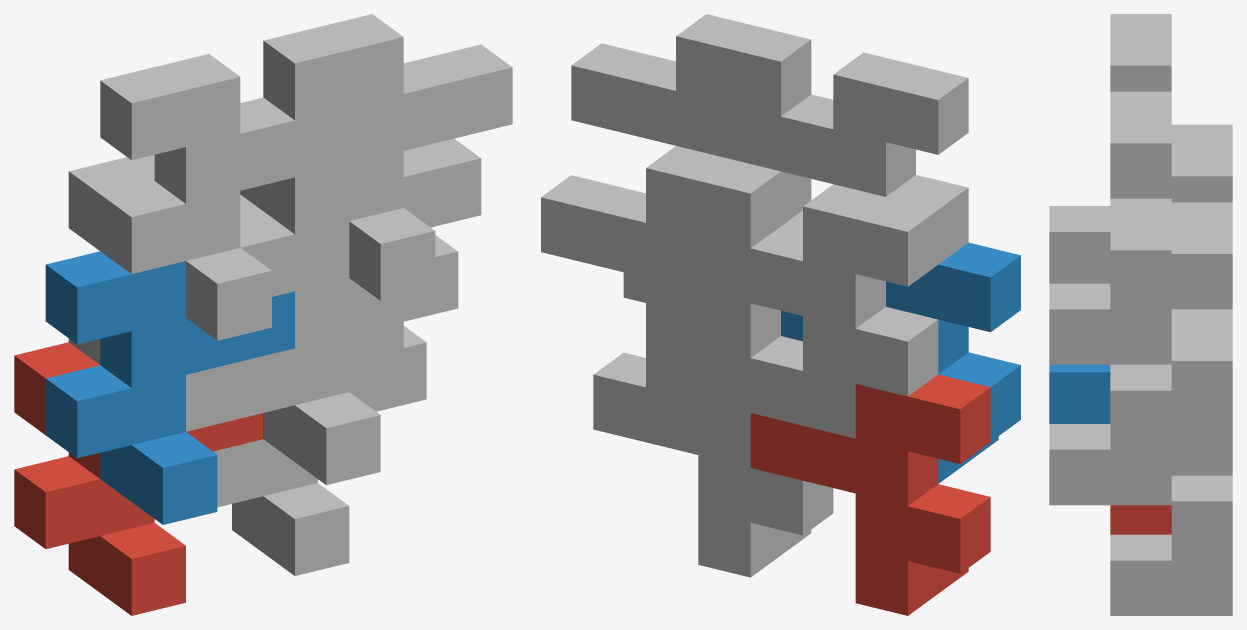
The model's file is tiling.obj.
3 views of the same model, side by side, from view 1: azimuth 30°, elevation 25°; view 2: azimuth 150°, elevation 25°; view 3: azimuth 270°, elevation 25° (orthographic). The views are drawn at different scales.
Parts seen in each view (by area): view 1: copy_1_domain_4, copy_1_domain_8, copy_1_domain_2, copy_1_domain_6, copy_1_domain_1, copy_1_domain_5, copy_1_domain_7, copy_1_domain_3; view 2: copy_1_domain_3, copy_1_domain_1, copy_1_domain_7, copy_1_domain_5, copy_1_domain_4, copy_1_domain_8, copy_1_domain_2, copy_1_domain_6; view 3: copy_1_domain_8, copy_1_domain_7, copy_1_domain_5, copy_1_domain_6, copy_1_domain_4, copy_1_domain_3, copy_1_domain_2, copy_1_domain_1.
Boxes of the visible parts, x1,y1,x2,y2 form: copy_1_domain_4: (100, 54, 349, 340); copy_1_domain_8: (263, 14, 512, 300); copy_1_domain_2: (45, 251, 294, 524); copy_1_domain_6: (240, 211, 458, 484); copy_1_domain_1: (14, 342, 263, 615); copy_1_domain_5: (213, 326, 426, 575); copy_1_domain_7: (240, 138, 481, 391); copy_1_domain_3: (68, 155, 262, 431); copy_1_domain_3: (698, 184, 938, 438); copy_1_domain_1: (750, 374, 990, 615); copy_1_domain_7: (541, 146, 780, 399); copy_1_domain_5: (593, 336, 833, 577); copy_1_domain_4: (728, 52, 968, 264); copy_1_domain_8: (571, 14, 811, 225); copy_1_domain_2: (781, 242, 1020, 483); copy_1_domain_6: (623, 210, 802, 302); copy_1_domain_8: (1049, 91, 1171, 364); copy_1_domain_7: (1110, 202, 1232, 475); copy_1_domain_5: (1110, 475, 1232, 615); copy_1_domain_6: (1049, 364, 1171, 505); copy_1_domain_4: (1049, 14, 1171, 283); copy_1_domain_3: (1171, 124, 1232, 202); copy_1_domain_2: (1049, 364, 1110, 423); copy_1_domain_1: (1110, 505, 1171, 534).
Size of the model in its own units: 8 by 9 by 3.
